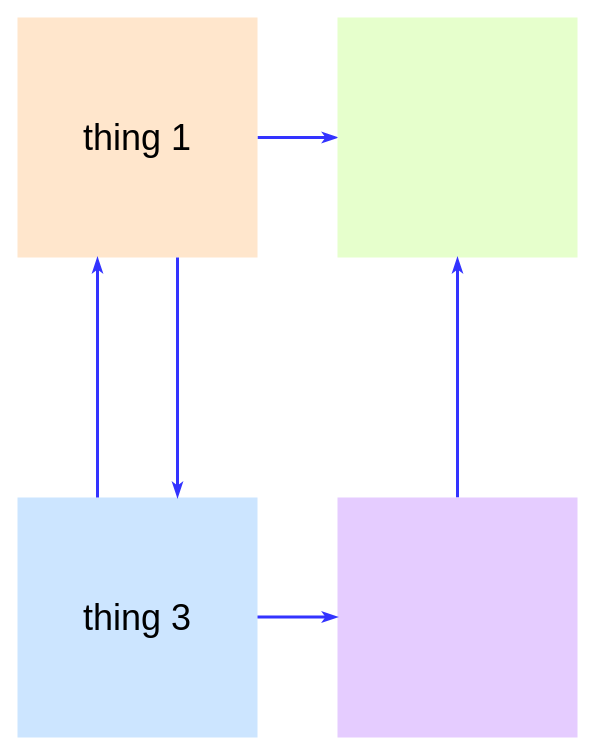
Image size: 594x754. Some labels were removed from this diagram. The centre of each missing label's shape, as x and y in pixels:
"thing 2" goes at (x=457, y=137).
"thing 4" goes at (x=457, y=617).
